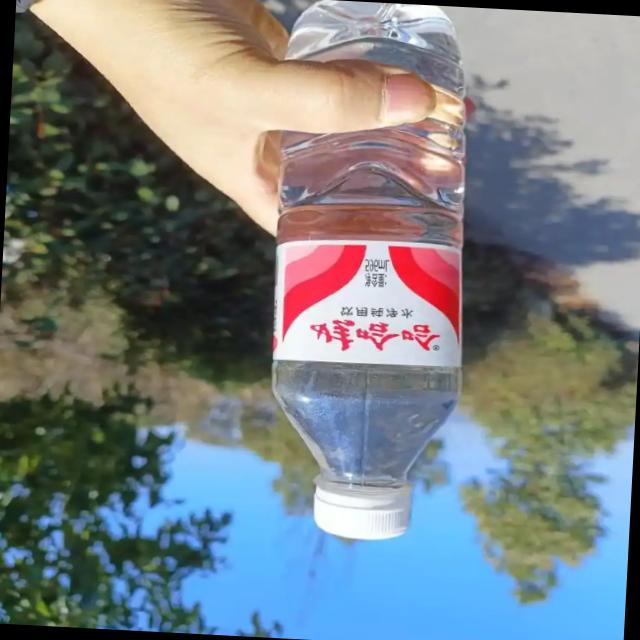bottle: (255, 0, 486, 548)
